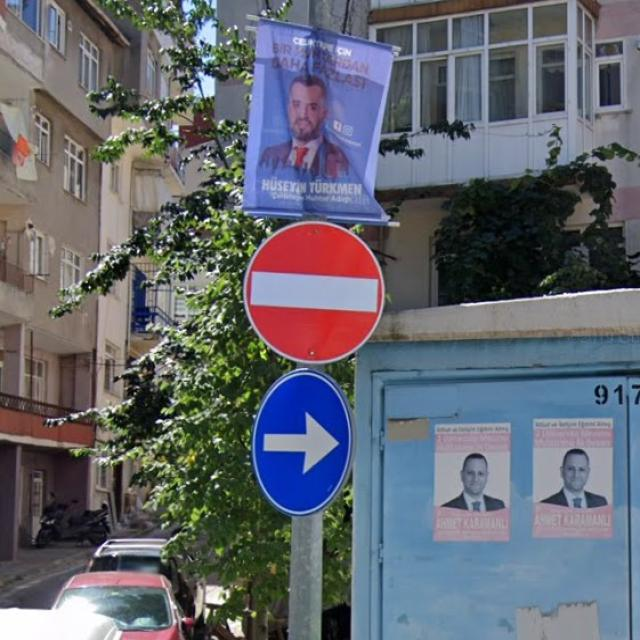girisyok: (242, 222, 385, 365)
sag: (255, 368, 354, 515)
